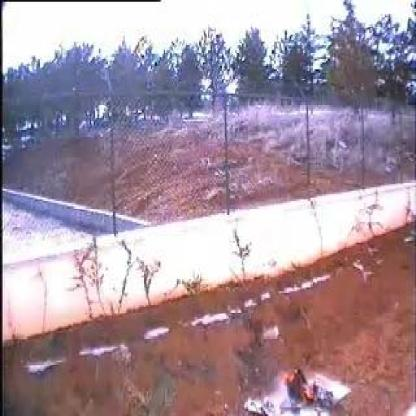foggia-v2-map80-epoch100 - v1 4323: (284, 370, 318, 405)
